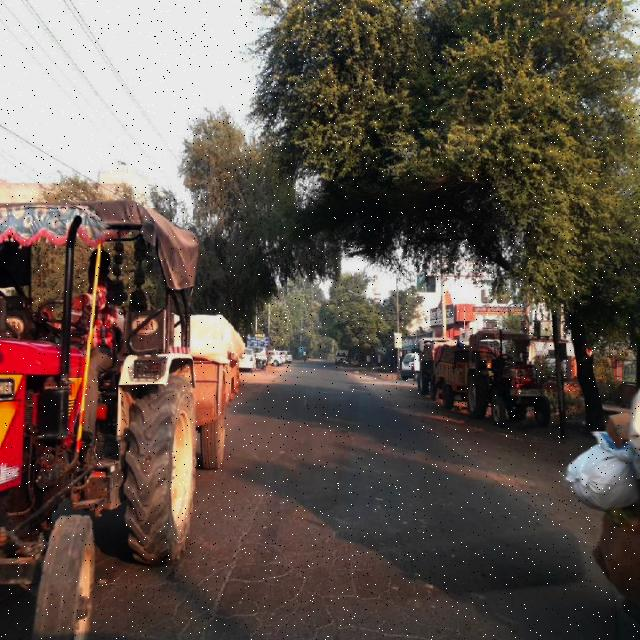D20: (195, 489, 508, 639)
